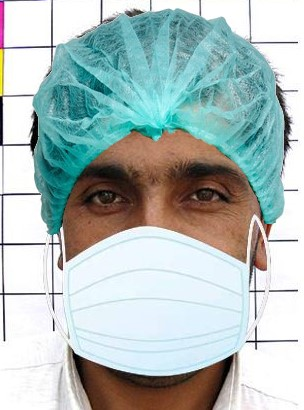with_mask_and_cap: (34, 9, 289, 387)
